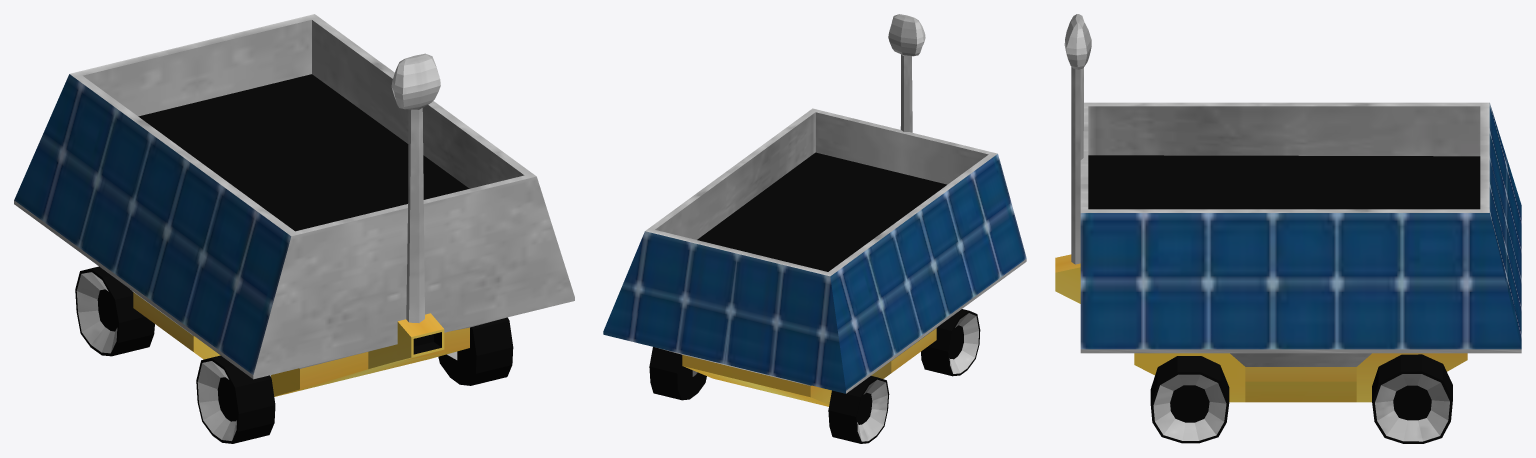
The model's file is rover.glb.
3 renders of one model, left to right at view 1: azimuth 30°, elevation 25°; view 2: azimuth 150°, elevation 25°; view 3: azimuth 270°, elevation 25°, orthographic. The views are drawn at different scales.
Visible parts, largest first — view 1: Cube; view 2: Cube; view 3: Cube.
Part boxes in pixels (left/top/right/bottom): Cube: left=14, top=14, right=574, bottom=443; Cube: left=603, top=14, right=1026, bottom=443; Cube: left=1055, top=14, right=1521, bottom=443.
Bounding box in the file's own units: 2.77 × 3.25 × 3.77.
Materials: 5 (3 with a texture image).
